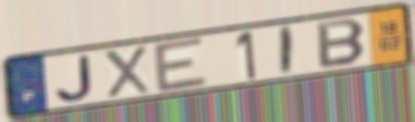1: (234, 29, 259, 82)
B: (314, 17, 368, 71)
E: (151, 34, 211, 95)
I: (278, 24, 296, 78)
J: (52, 53, 96, 104)
X: (100, 44, 153, 100)
